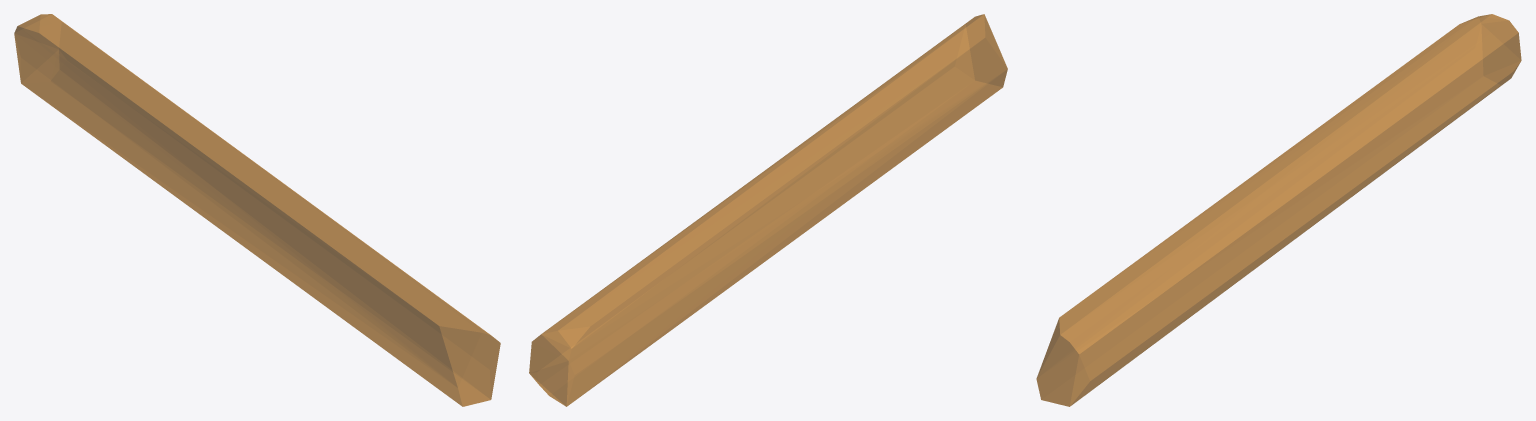
3 views of the same model, side by side, from view 1: azimuth 30°, elevation 25°; view 2: azimuth 150°, elevation 25°; view 3: azimuth 330°, elevation 25° (orthographic).
Visible parts, largest first — view 1: Shape_IndexedFaceSet.011_Shape_IndexedFaceSet.4357; view 2: Shape_IndexedFaceSet.011_Shape_IndexedFaceSet.4357; view 3: Shape_IndexedFaceSet.011_Shape_IndexedFaceSet.4357.
Part boxes in pixels (x1=…): Shape_IndexedFaceSet.011_Shape_IndexedFaceSet.4357: x1=14, y1=14, x2=500, y2=406; Shape_IndexedFaceSet.011_Shape_IndexedFaceSet.4357: x1=529, y1=14, x2=1007, y2=406; Shape_IndexedFaceSet.011_Shape_IndexedFaceSet.4357: x1=1036, y1=14, x2=1521, y2=406.
Bounding box in the file's own units: 0.0575 × 0.0895 × 1.03.
